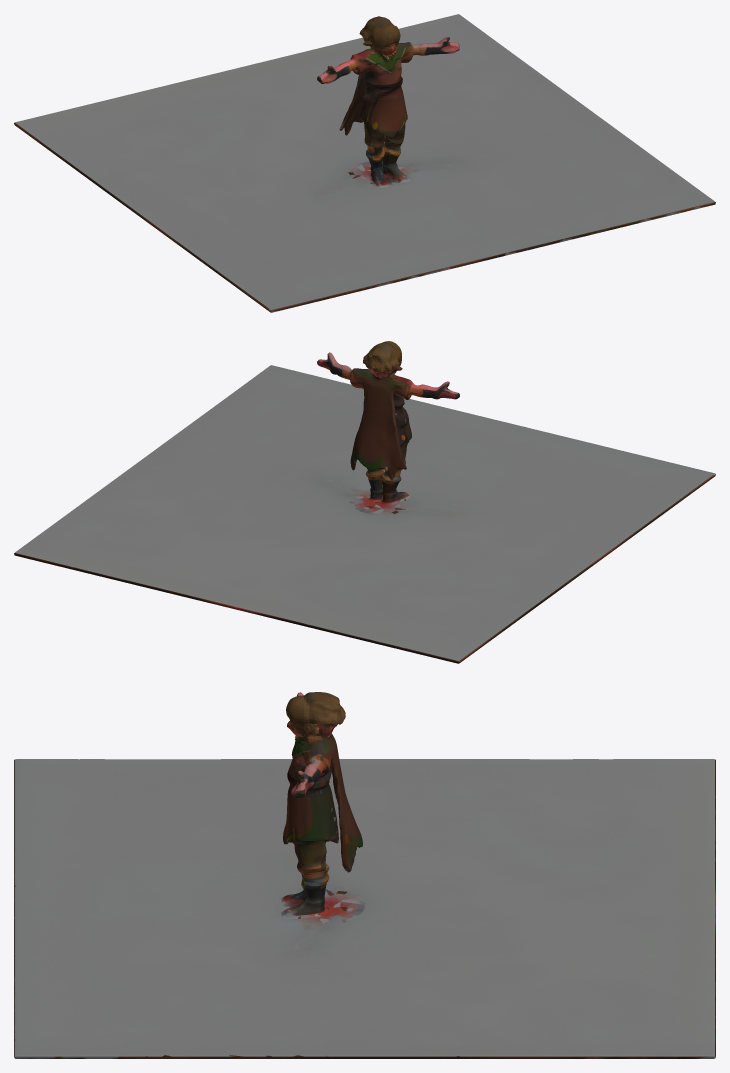
The model's file is tam.glb.
3 views of the same model, one above another, from view 1: azimuth 30°, elevation 25°; view 2: azimuth 150°, elevation 25°; view 3: azimuth 270°, elevation 25° (orthographic). The views are drawn at different scales.
Visible parts, largest first — view 1: textured_mesh.obj; view 2: textured_mesh.obj; view 3: textured_mesh.obj.
Part boxes in pixels (box(x1,y1,x2,y2)): textured_mesh.obj: box(14, 14, 715, 312); textured_mesh.obj: box(14, 341, 715, 663); textured_mesh.obj: box(14, 692, 715, 1058).
Bounding box in the file's own units: 1.99 × 0.6843 × 1.99.
Materials: 1 (1 with a texture image).
